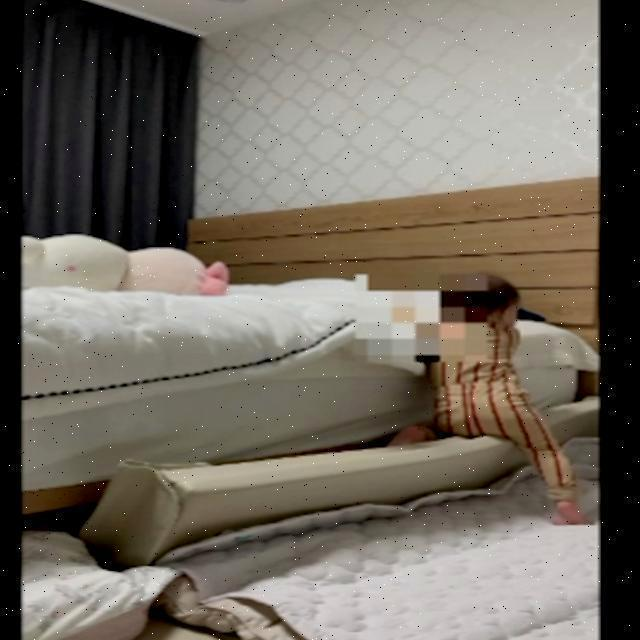child: (374, 273, 599, 524)
